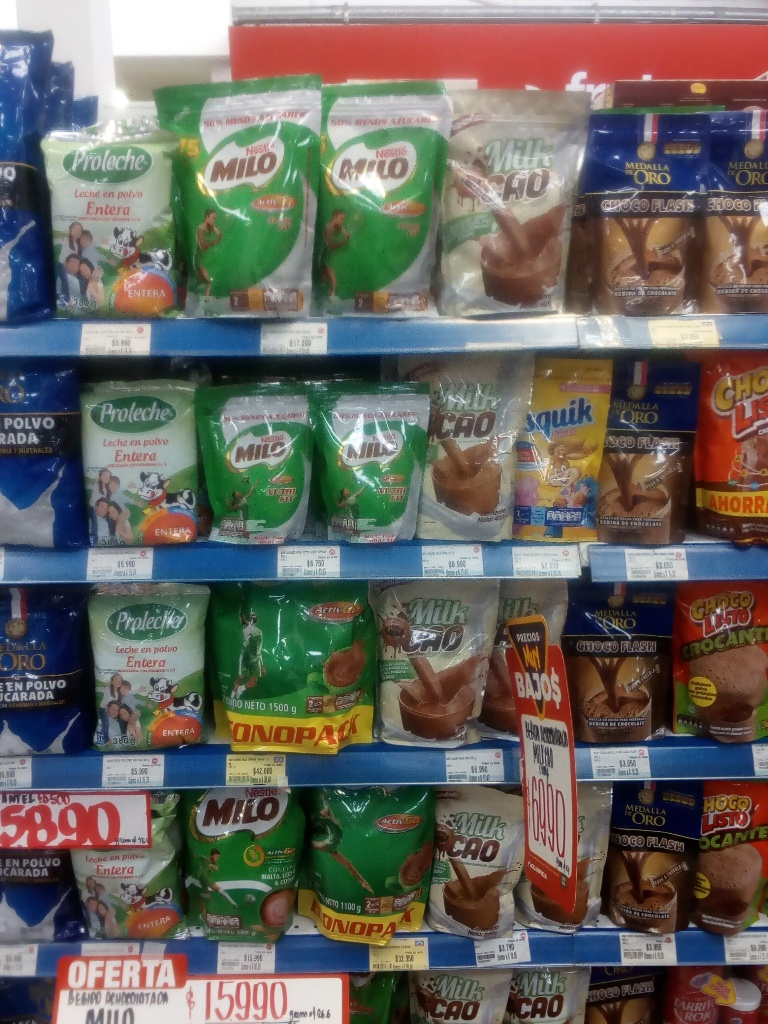COL0170102DYP50000: (677, 576, 765, 740)
COL0170103DYP44000: (690, 347, 768, 548)
COL0170203DYP50000: (171, 790, 301, 935)
COL0170205DYP20000: (193, 384, 326, 552)
COL0170205DYP50000: (150, 70, 323, 320)
COL0170305DYP20000: (512, 347, 608, 541)
